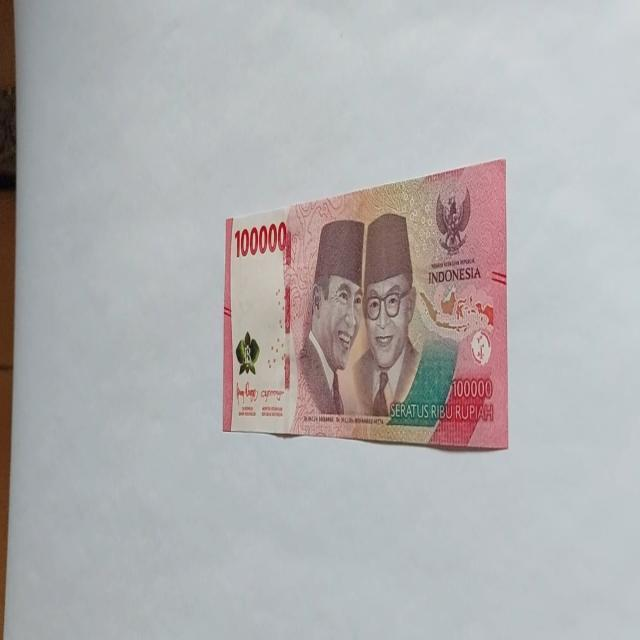seratus ribu rupiah: (222, 157, 508, 451), (295, 218, 365, 420)
